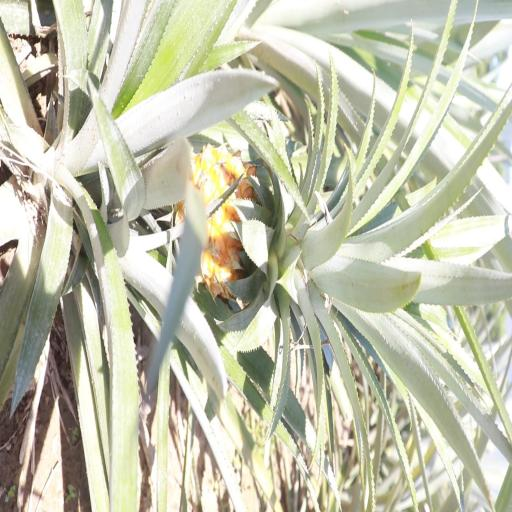Pineapple - v8 v1: (180, 146, 414, 313)
